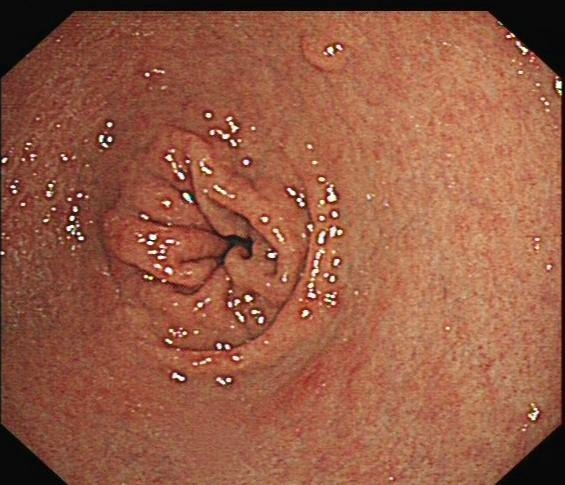Polyp: (283, 19, 359, 89)
